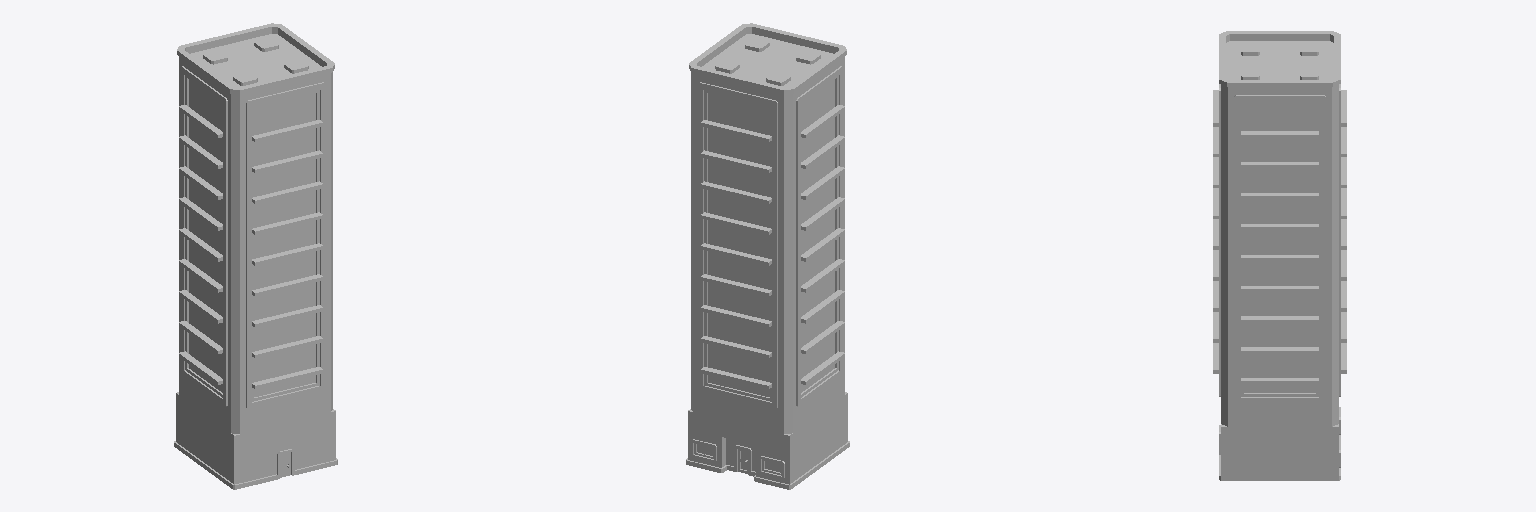
The model's file is commercial_building-skyscraper-b.obj.
3 views of the same model, side by side, from view 1: azimuth 30°, elevation 25°; view 2: azimuth 150°, elevation 25°; view 3: azimuth 270°, elevation 25° (orthographic).
Parts seen in each view (by area): view 1: building-skyscraper-b; view 2: building-skyscraper-b; view 3: building-skyscraper-b.
Boxes of the visible parts, box(x1,y1,x2,y2) form: building-skyscraper-b: box(174, 23, 337, 489); building-skyscraper-b: box(686, 23, 849, 489); building-skyscraper-b: box(1213, 31, 1346, 480).
Size of the model in its own units: 1.36 by 4.48 by 1.36.